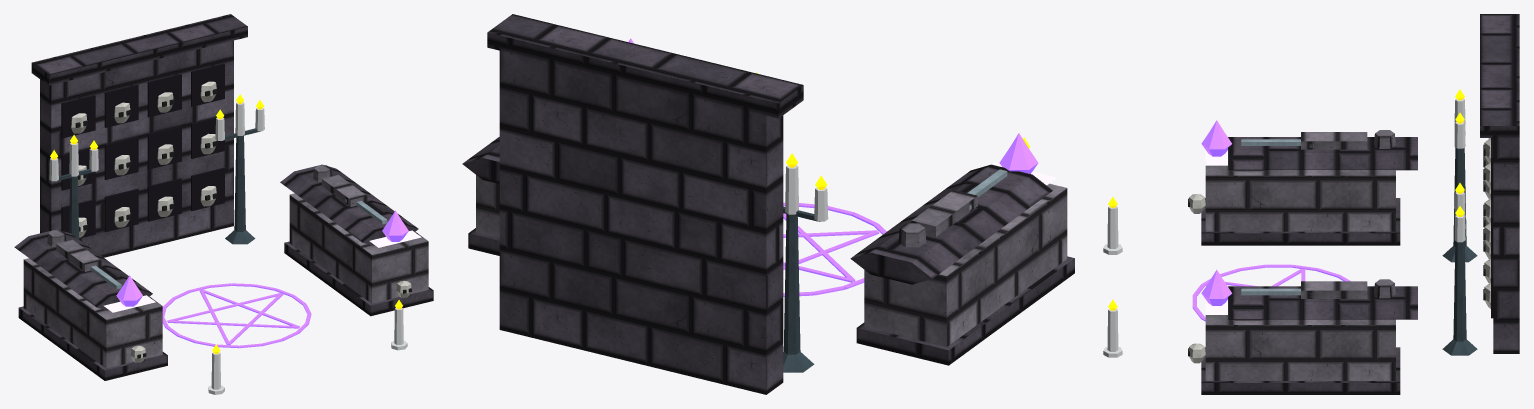
The model's file is crypt_2.glb.
3 views of the same model, side by side, from view 1: azimuth 30°, elevation 25°; view 2: azimuth 150°, elevation 25°; view 3: azimuth 270°, elevation 25° (orthographic). The views are drawn at different scales.
Visible parts, largest first — view 1: base_mesh, flame_1_mesh, flame_0_mesh; view 2: base_mesh, flame_0_mesh; view 3: base_mesh, flame_0_mesh, flame_1_mesh.
Boxes of the visible parts, left/top/right/bottom form: base_mesh: left=14, top=14, right=433, bottom=394; flame_1_mesh: left=382, top=210, right=408, bottom=241; flame_0_mesh: left=116, top=275, right=142, bottom=306; base_mesh: left=462, top=14, right=1074, bottom=394; flame_0_mesh: left=999, top=133, right=1038, bottom=173; base_mesh: left=1103, top=14, right=1519, bottom=394; flame_0_mesh: left=1201, top=120, right=1231, bottom=156; flame_1_mesh: left=1201, top=269, right=1232, bottom=305.
Size of the model in its own units: 1.98 by 1.16 by 1.88.
16 materials, 6 textured.
